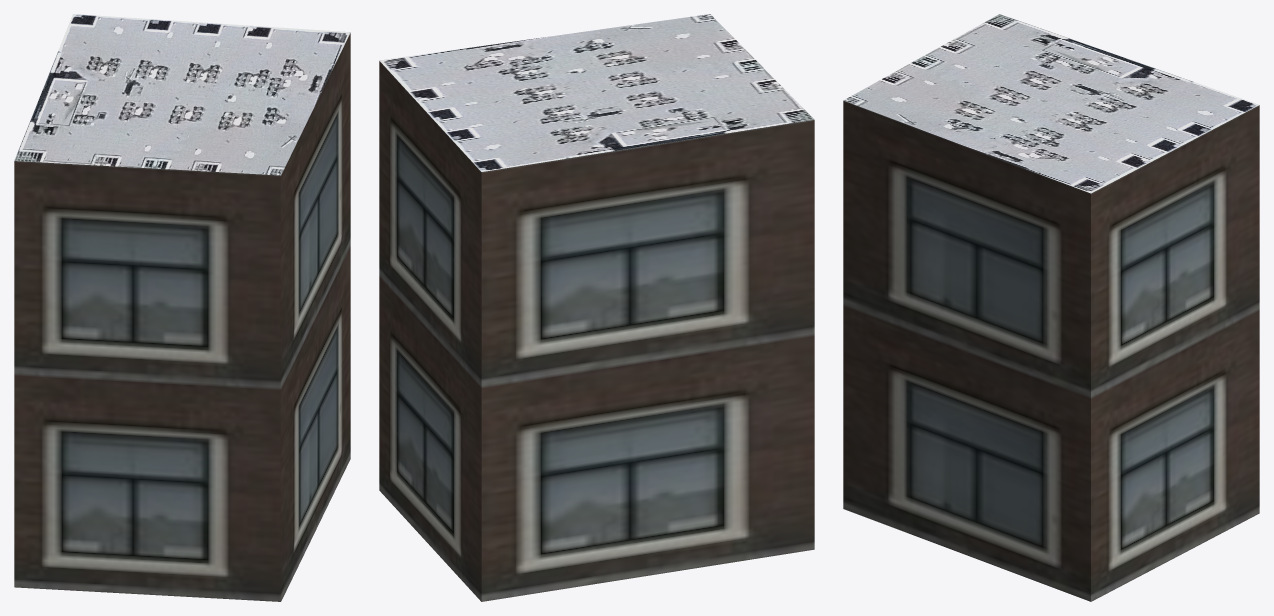
The model's file is ResTex__1990.fbx.
The picture shows the model from 3 angles, left to right: view 1: azimuth 30°, elevation 25°; view 2: azimuth 150°, elevation 25°; view 3: azimuth 270°, elevation 25°; orthographic projection. The views are drawn at different scales.
Visible parts, largest first — view 1: CityEngineMaterial_16_m, CityEngineMaterial_15_m; view 2: CityEngineMaterial_16_m, CityEngineMaterial_15_m; view 3: CityEngineMaterial_16_m, CityEngineMaterial_15_m.
Boxes of the visible parts, x1,y1,x2,y2 form: CityEngineMaterial_16_m: (14, 33, 350, 601); CityEngineMaterial_15_m: (14, 14, 350, 175); CityEngineMaterial_16_m: (379, 61, 814, 601); CityEngineMaterial_15_m: (379, 14, 814, 171); CityEngineMaterial_16_m: (843, 100, 1259, 601); CityEngineMaterial_15_m: (843, 14, 1258, 193).
Size of the model in its own units: 5.66 by 6 by 5.55.
2 materials, 2 textured.
